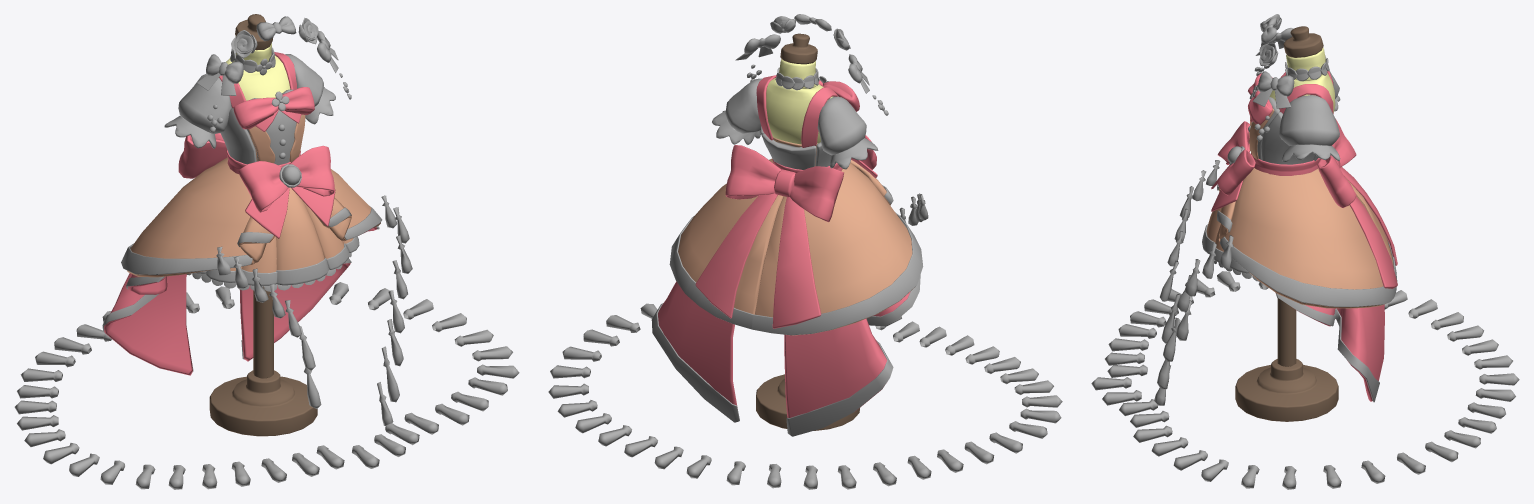
File: MahouShoujoDress.fbx
The picture shows the model from 3 angles, left to right: view 1: azimuth 30°, elevation 25°; view 2: azimuth 150°, elevation 25°; view 3: azimuth 270°, elevation 25°; orthographic projection. The views are drawn at different scales.
Visible parts, largest first — view 1: S_Mahou_Shoujo_Dress43, S_Mahou_Shoujo_Dress5, S_Mahou_Shoujo_Dress18, S_Mahou_Shoujo_Dress40, S_Mahou_Shoujo_Dress2, M_Mahou_Shoujo_Dress14, S_Mahou_Shoujo_Dress17, S_Mahou_Shoujo_Dress19, S_Mahou_Shoujo_Dress38, S_Mahou_Shoujo_Dress44, S_Mahou_Shoujo_Dress11, M_Mahou_Shoujo_Dress25 (+14 smaller); view 2: S_Mahou_Shoujo_Dress43, S_Mahou_Shoujo_Dress5, S_Mahou_Shoujo_Dress44, S_Mahou_Shoujo_Dress40, S_Mahou_Shoujo_Dress12, S_Mahou_Shoujo_Dress42, M_Mahou_Shoujo_Dress25, S_Mahou_Shoujo_Dress41, S_Mahou_Shoujo_Dress11, M_Mahou_Shoujo_Dress14, S_Mahou_Shoujo_Dress18, M_Mahou_Shoujo_Dress15 (+14 smaller); view 3: S_Mahou_Shoujo_Dress44, S_Mahou_Shoujo_Dress18, S_Mahou_Shoujo_Dress40, M_Mahou_Shoujo_Dress15, S_Mahou_Shoujo_Dress42, S_Mahou_Shoujo_Dress17, D_Mahou_Shoujo_Dress103, S_Mahou_Shoujo_Dress41, M_Mahou_Shoujo_Dress28, D_Mahou_Shoujo_Dress102, S_Mahou_Shoujo_Dress21, S_Mahou_Shoujo_Dress38 (+8 smaller).
Boxes of the visible parts, x1,y1,x2,y2 form: S_Mahou_Shoujo_Dress43: [127, 157, 274, 277]; S_Mahou_Shoujo_Dress5: [104, 273, 192, 375]; S_Mahou_Shoujo_Dress18: [209, 370, 317, 436]; S_Mahou_Shoujo_Dress40: [240, 227, 377, 361]; S_Mahou_Shoujo_Dress2: [276, 187, 324, 270]; M_Mahou_Shoujo_Dress14: [178, 74, 231, 133]; S_Mahou_Shoujo_Dress17: [253, 286, 273, 378]; S_Mahou_Shoujo_Dress19: [238, 161, 288, 212]; S_Mahou_Shoujo_Dress38: [289, 145, 334, 196]; S_Mahou_Shoujo_Dress44: [312, 169, 380, 241]; S_Mahou_Shoujo_Dress11: [178, 133, 227, 178]; M_Mahou_Shoujo_Dress25: [226, 55, 290, 100]; S_Mahou_Shoujo_Dress43: [755, 160, 913, 335]; S_Mahou_Shoujo_Dress5: [784, 291, 910, 417]; S_Mahou_Shoujo_Dress44: [678, 158, 783, 314]; S_Mahou_Shoujo_Dress40: [658, 281, 737, 407]; S_Mahou_Shoujo_Dress12: [772, 197, 821, 328]; S_Mahou_Shoujo_Dress42: [695, 193, 777, 318]; M_Mahou_Shoujo_Dress25: [766, 78, 833, 144]; S_Mahou_Shoujo_Dress41: [725, 145, 781, 199]; S_Mahou_Shoujo_Dress11: [789, 166, 843, 222]; M_Mahou_Shoujo_Dress14: [817, 96, 866, 155]; S_Mahou_Shoujo_Dress18: [756, 374, 859, 430]; M_Mahou_Shoujo_Dress15: [725, 78, 762, 133]; S_Mahou_Shoujo_Dress44: [1219, 168, 1383, 308]; S_Mahou_Shoujo_Dress18: [1235, 359, 1338, 421]; S_Mahou_Shoujo_Dress40: [1296, 305, 1384, 401]; M_Mahou_Shoujo_Dress15: [1279, 95, 1339, 145]; S_Mahou_Shoujo_Dress42: [1349, 196, 1397, 288]; S_Mahou_Shoujo_Dress17: [1277, 298, 1296, 366]; D_Mahou_Shoujo_Dress103: [1240, 253, 1303, 302]; S_Mahou_Shoujo_Dress41: [1317, 155, 1356, 207]; M_Mahou_Shoujo_Dress28: [1261, 112, 1315, 164]; D_Mahou_Shoujo_Dress102: [1302, 283, 1356, 306]; S_Mahou_Shoujo_Dress21: [1283, 26, 1323, 57]; S_Mahou_Shoujo_Dress38: [1217, 149, 1255, 195].
Bounding box in the file's own units: 523 × 428 × 439.
